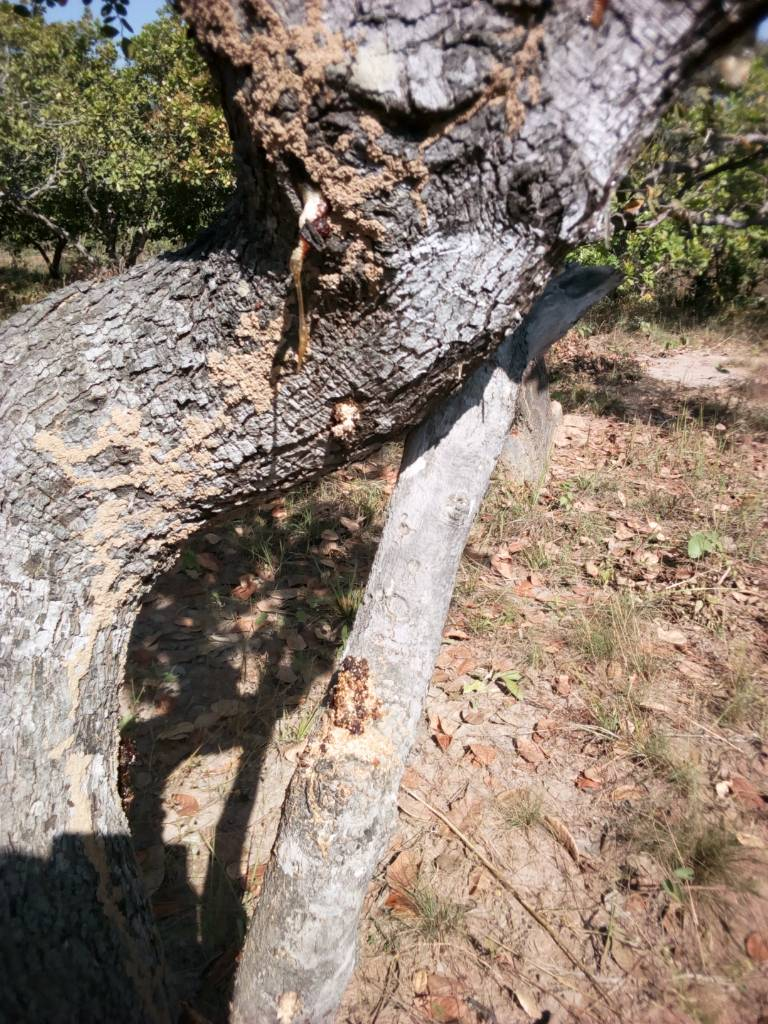Termites: (194, 1, 422, 277), (44, 422, 146, 1000)
